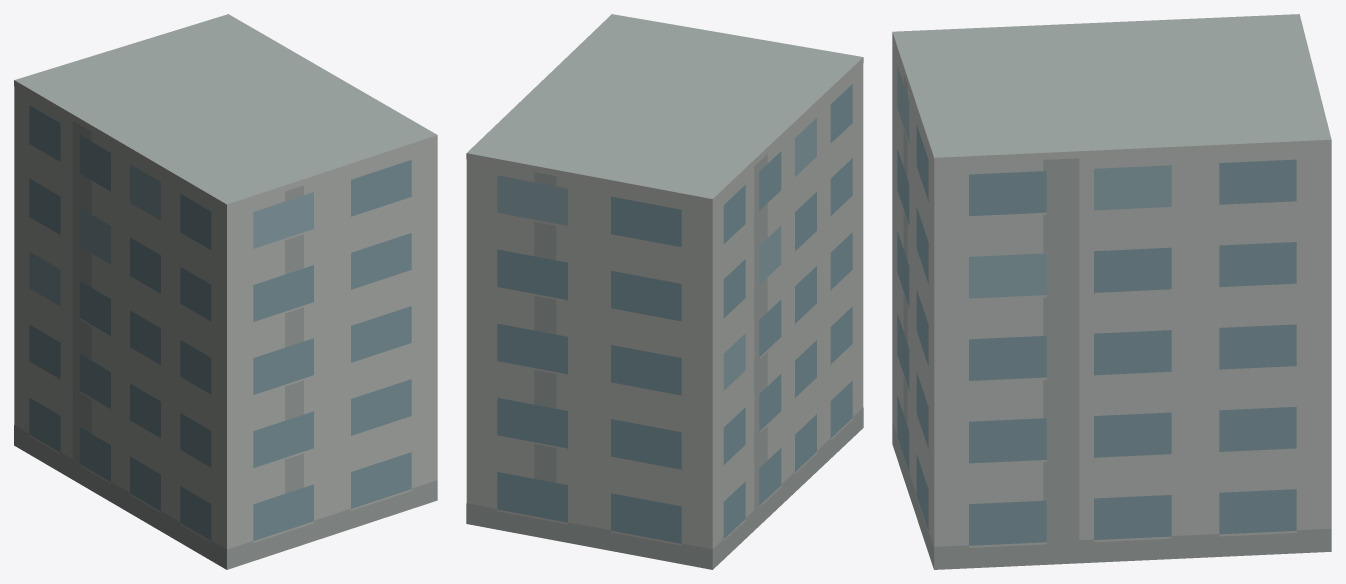
File: survey-upis-32884525.glb
3 views of the same model, side by side, from view 1: azimuth 30°, elevation 25°; view 2: azimuth 150°, elevation 25°; view 3: azimuth 270°, elevation 25° (orthographic). The views are drawn at different scales.
Visible parts, largest first — view 1: survey-upis-32884525.tmp; view 2: survey-upis-32884525.tmp; view 3: survey-upis-32884525.tmp.
Boxes of the visible parts, bbox=[...] form: survey-upis-32884525.tmp: bbox=[14, 14, 437, 569]; survey-upis-32884525.tmp: bbox=[466, 14, 863, 569]; survey-upis-32884525.tmp: bbox=[892, 14, 1331, 569].
Bounding box in the file's own units: 10.71 × 14.3 × 13.83.
